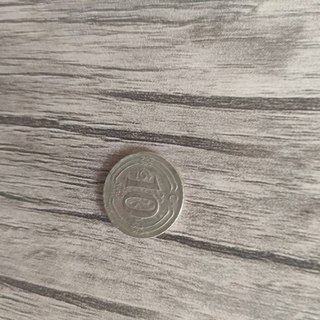10KURUS: (101, 150, 185, 240)
